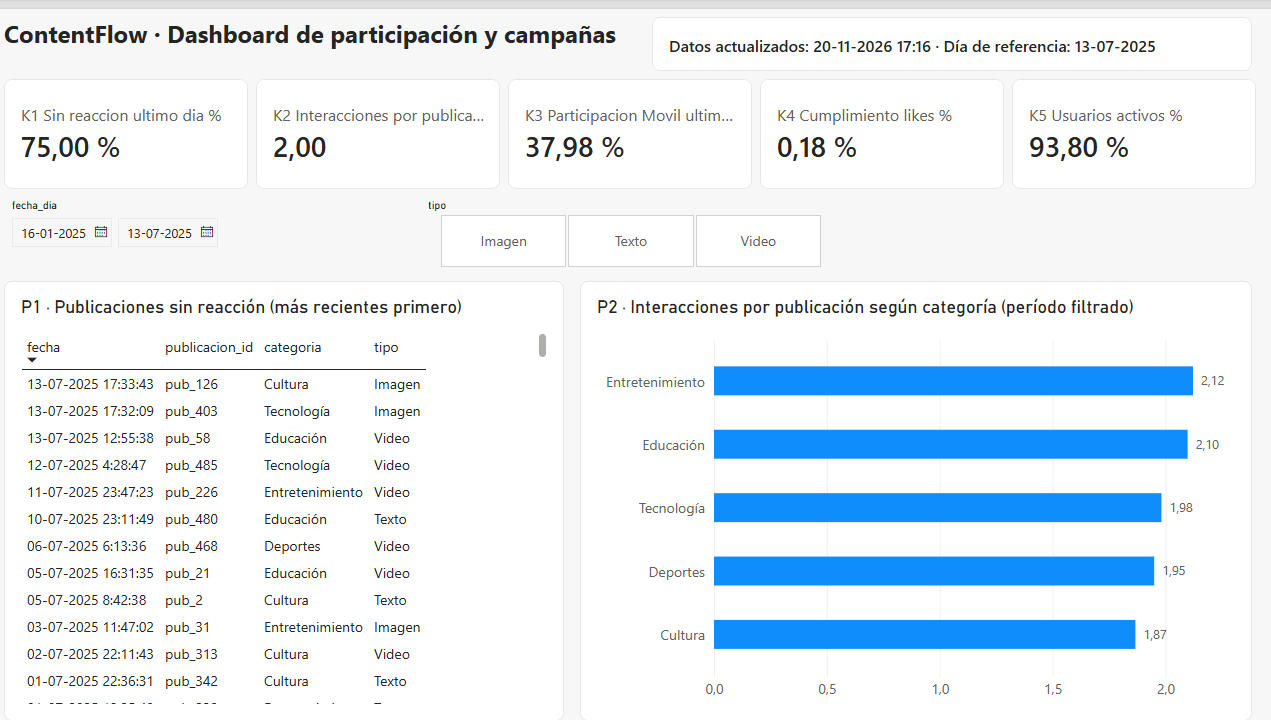

Layout of this report page (visuals, bound fields, positions):
{"tool":"powerbi","page":{"name":"Operación y contenido","canvas":[1920,1080],"ordinal":0},"visuals":[{"type":"cardVisual","fields":{"Data":["fact_publicaciones.K1 Sin reaccion %"]},"box":[16,70,244,110],"z":0},{"type":"cardVisual","fields":{"Data":["fact_publicaciones.K2 Interacciones por publicacion"]},"box":[268,70,244,110],"z":1},{"type":"cardVisual","fields":{"Data":["fact_publicaciones.K3 Participacion Movil %"]},"box":[520,70,244,110],"z":2},{"type":"cardVisual","fields":{"Data":["fact_publicaciones.K4 Cumplimiento likes %"]},"box":[772,70,244,110],"z":3},{"type":"cardVisual","fields":{"Data":["fact_publicaciones.K5 Usuarios activos %"]},"box":[1024,70,244,110],"z":4},{"type":"cardVisual","fields":{"Data":["fact_publicaciones.Ultima actualizacion"]},"box":[664,8,600,54],"z":5},{"type":"textbox","box":[16,8,640,54],"z":6},{"type":"slicer","fields":{"Values":["fact_publicaciones.fecha_dia"]},"box":[16,190,400,70],"z":7},{"type":"slicer","fields":{"Values":["fact_publicaciones.tipo"]},"box":[432,190,420,70],"z":8},{"type":"tableEx","title":"P1 · Publicaciones sin reacción (más recientes primero)","fields":{"Values":["fact_publicaciones.fecha","fact_publicaciones.publicacion_id","fact_publicaciones.categoria","fact_publicaciones.tipo"]},"box":[16,272,560,440],"z":9},{"type":"clusteredBarChart","title":"P2 · Interacciones por publicación según categoría (período filtrado)","fields":{"Category":["fact_publicaciones.categoria"],"Y":["fact_publicaciones.K2 Interacciones por publicacion"]},"box":[592,272,672,440],"z":10}]}

Visuals, with their boxes in screenshot pixels (x1, y1, x2, y2), scaled from the page's 1920x1080 canvas onto the 1271x720 screenshot:
cardVisual - fact_publicaciones.K1 Sin reaccion %: x1=11 y1=47 x2=172 y2=120
cardVisual - fact_publicaciones.K2 Interacciones por publicacion: x1=177 y1=47 x2=339 y2=120
cardVisual - fact_publicaciones.K3 Participacion Movil %: x1=344 y1=47 x2=506 y2=120
cardVisual - fact_publicaciones.K4 Cumplimiento likes %: x1=511 y1=47 x2=673 y2=120
cardVisual - fact_publicaciones.K5 Usuarios activos %: x1=678 y1=47 x2=839 y2=120
cardVisual - fact_publicaciones.Ultima actualizacion: x1=440 y1=5 x2=837 y2=41
textbox: x1=11 y1=5 x2=434 y2=41
slicer - fact_publicaciones.fecha_dia: x1=11 y1=127 x2=275 y2=173
slicer - fact_publicaciones.tipo: x1=286 y1=127 x2=564 y2=173
"P1 · Publicaciones sin reacción (más recientes primero)" tableEx: x1=11 y1=181 x2=381 y2=475
"P2 · Interacciones por publicación según categoría (período filtrado)" clusteredBarChart: x1=392 y1=181 x2=837 y2=475
